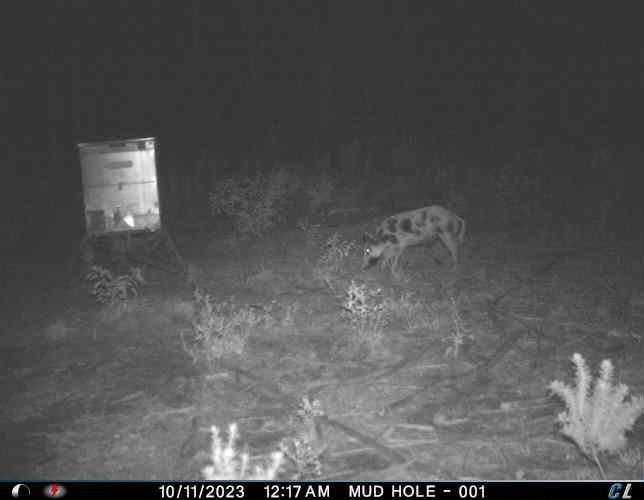Hog: (356, 200, 469, 281)
